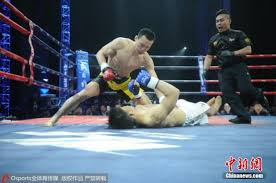fall: (104, 90, 223, 129)
